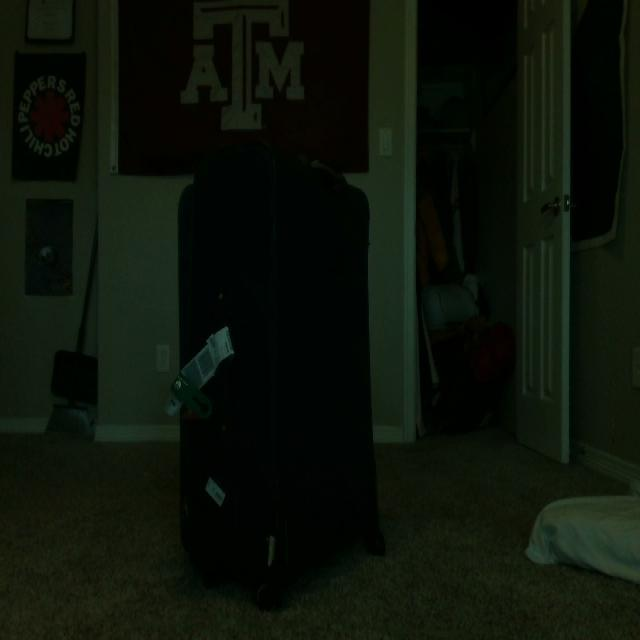suitcase: (174, 140, 386, 605)
